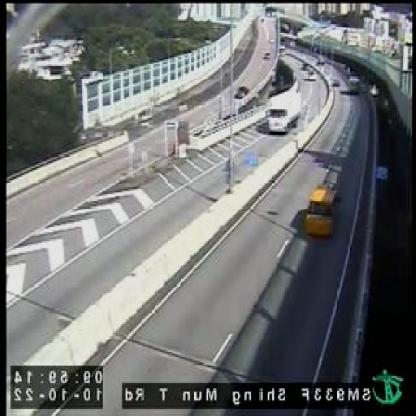Car: (306, 186, 338, 239)
Truck: (265, 85, 299, 132)
